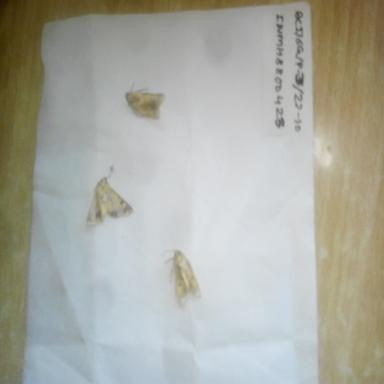abw: (83, 159, 136, 231), (160, 240, 204, 314), (120, 79, 175, 125)
